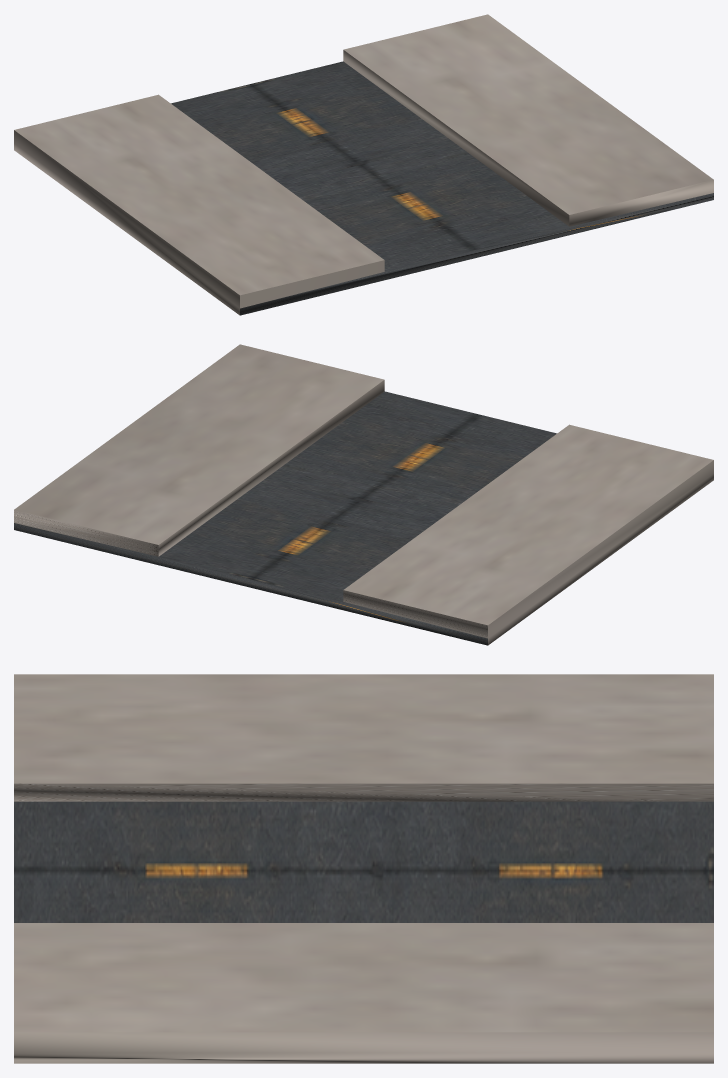
File: yol yeni.fbx
The picture shows the model from 3 angles, top to bottom: view 1: azimuth 30°, elevation 25°; view 2: azimuth 150°, elevation 25°; view 3: azimuth 270°, elevation 25°; orthographic projection. The views are drawn at different scales.
Visible parts, largest first — view 1: Uçak.005; view 2: Uçak.005; view 3: Uçak.005.
Part boxes in pixels (x1=…): Uçak.005: x1=14, y1=14, x2=713, y2=315; Uçak.005: x1=14, y1=344, x2=713, y2=645; Uçak.005: x1=14, y1=674, x2=713, y2=1063.
Bounding box in the file's own units: 721 × 29.41 × 595.
1 material, 1 textured.
